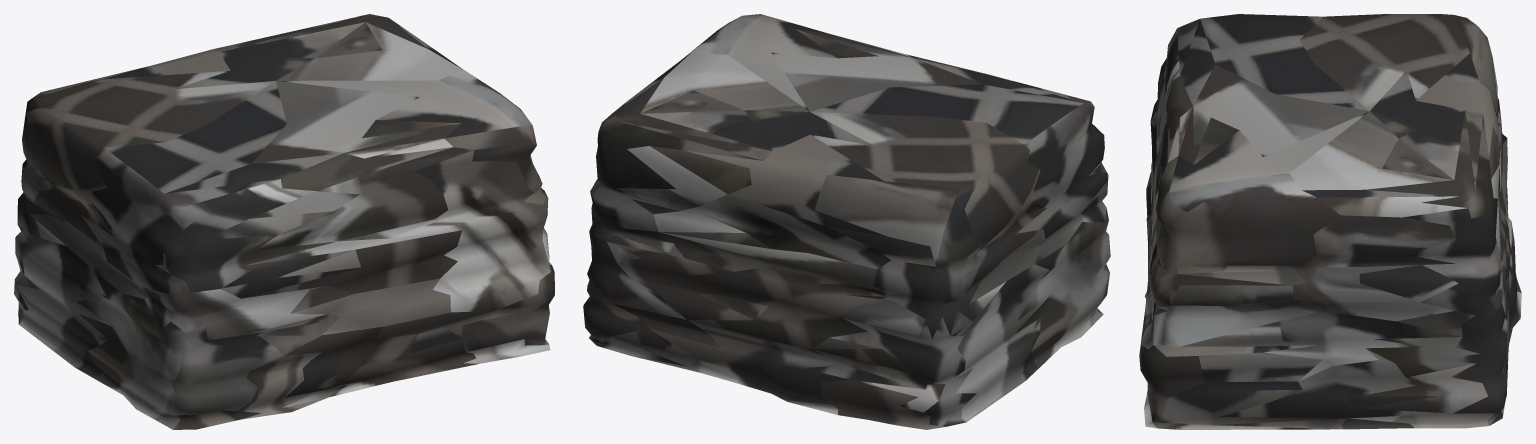
The model's file is FoldedClothes.fbx.
The picture shows the model from 3 angles, left to right: view 1: azimuth 30°, elevation 25°; view 2: azimuth 150°, elevation 25°; view 3: azimuth 270°, elevation 25°; orthographic projection. The views are drawn at different scales.
Parts seen in each view (by area): view 1: Mesh_0; view 2: Mesh_0; view 3: Mesh_0.
Part boxes in pixels (x1,y1,x2,y2): Mesh_0: (14,14,554,429); Mesh_0: (583,14,1110,429); Mesh_0: (1139,14,1521,429).
Size of the model in its own units: 52.22 by 29.54 by 43.85.
